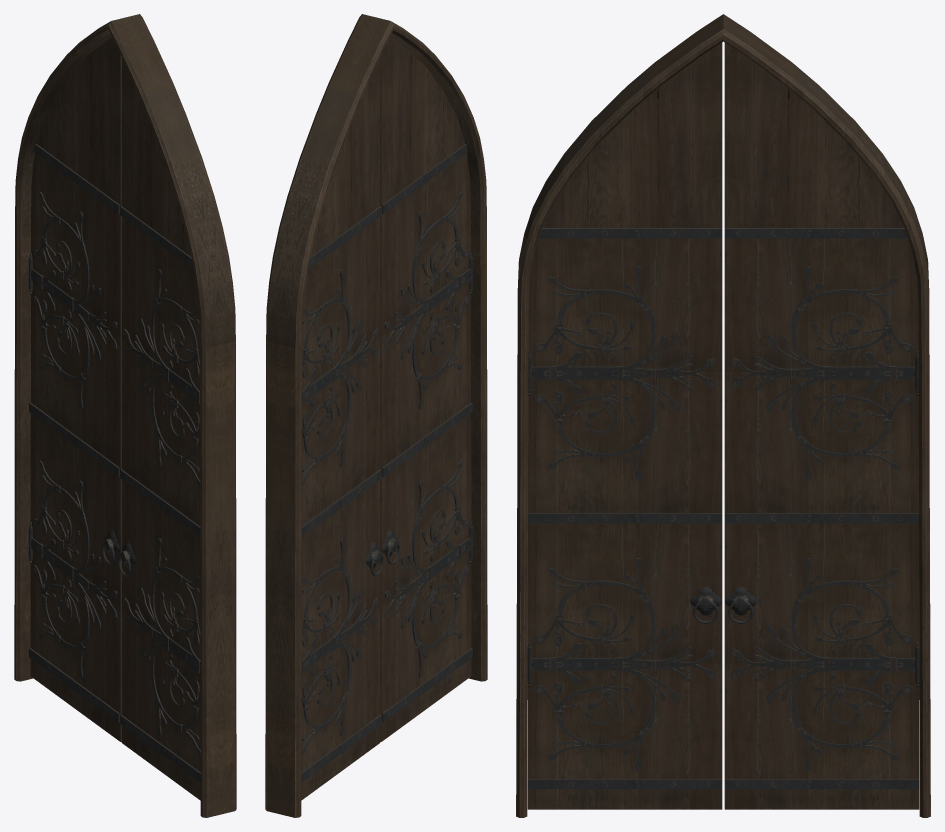
The model's file is door-compressed.glb.
The picture shows the model from 3 angles, left to right: view 1: azimuth 30°, elevation 25°; view 2: azimuth 150°, elevation 25°; view 3: azimuth 270°, elevation 25°; orthographic projection. The views are drawn at different scales.
Parts seen in each view (by area): view 1: Door; view 2: Door; view 3: Door.
Part boxes in pixels (x1,y1,x2,y2): Door: (14,14,236,817); Door: (265,14,487,817); Door: (516,14,930,817).
Size of the model in its own units: 3.72 by 76.14 by 36.34.
Materials: 1 (1 with a texture image).
